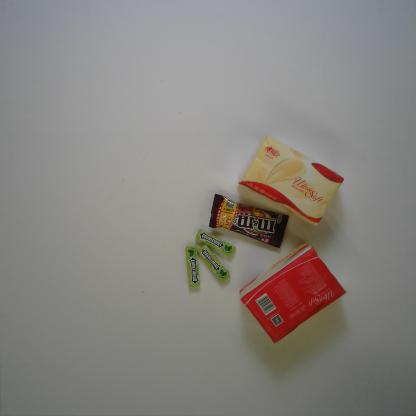Chocolate: (208, 193, 290, 249)
Gum: (196, 243, 232, 284), (194, 228, 236, 258), (185, 244, 201, 288)
Tissue: (238, 240, 348, 345), (237, 134, 344, 227)
